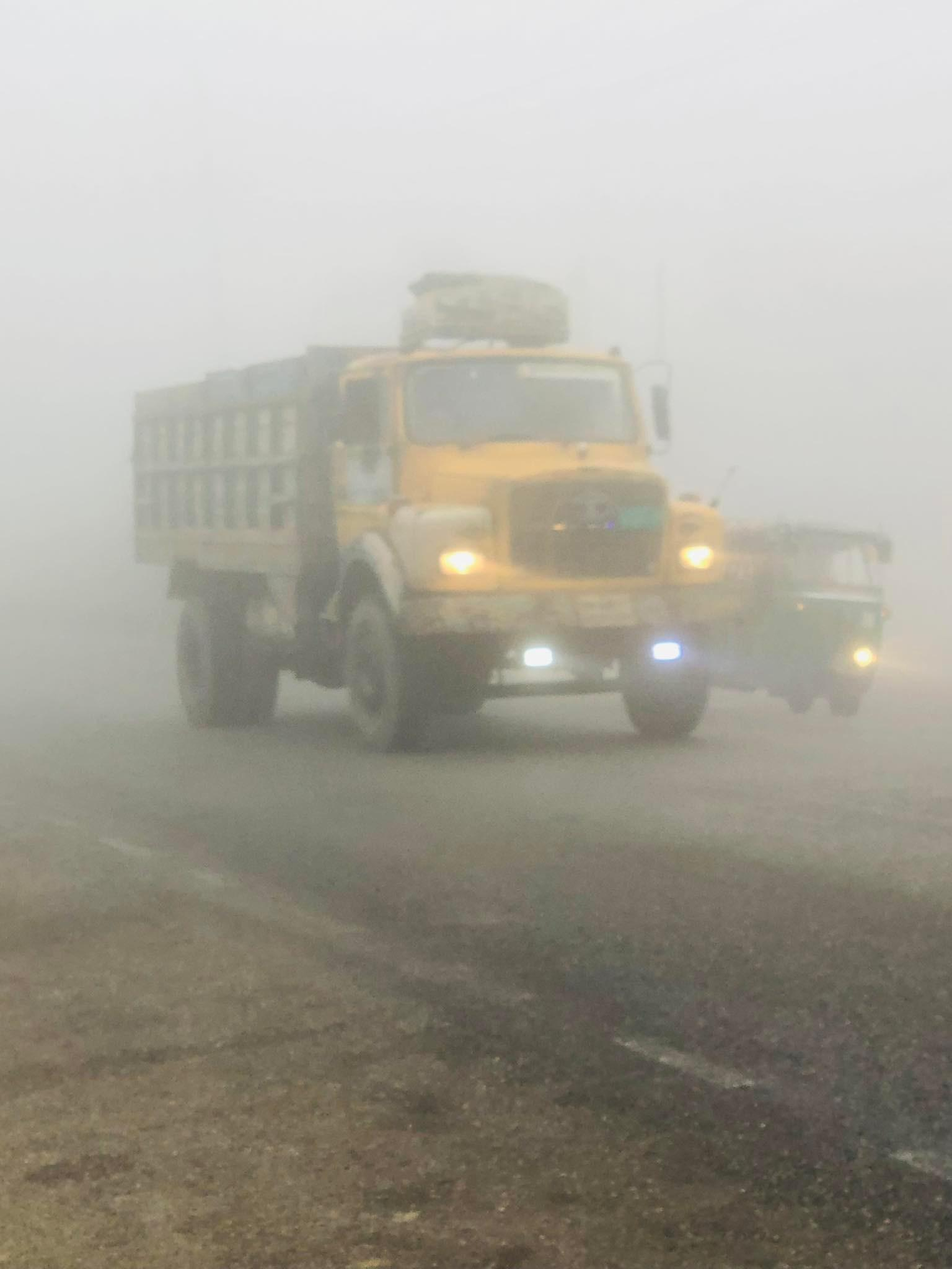Truck: (88, 265, 755, 793)
